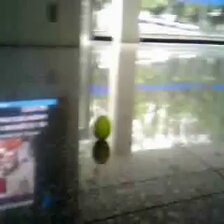tennis: (93, 116, 112, 139)
